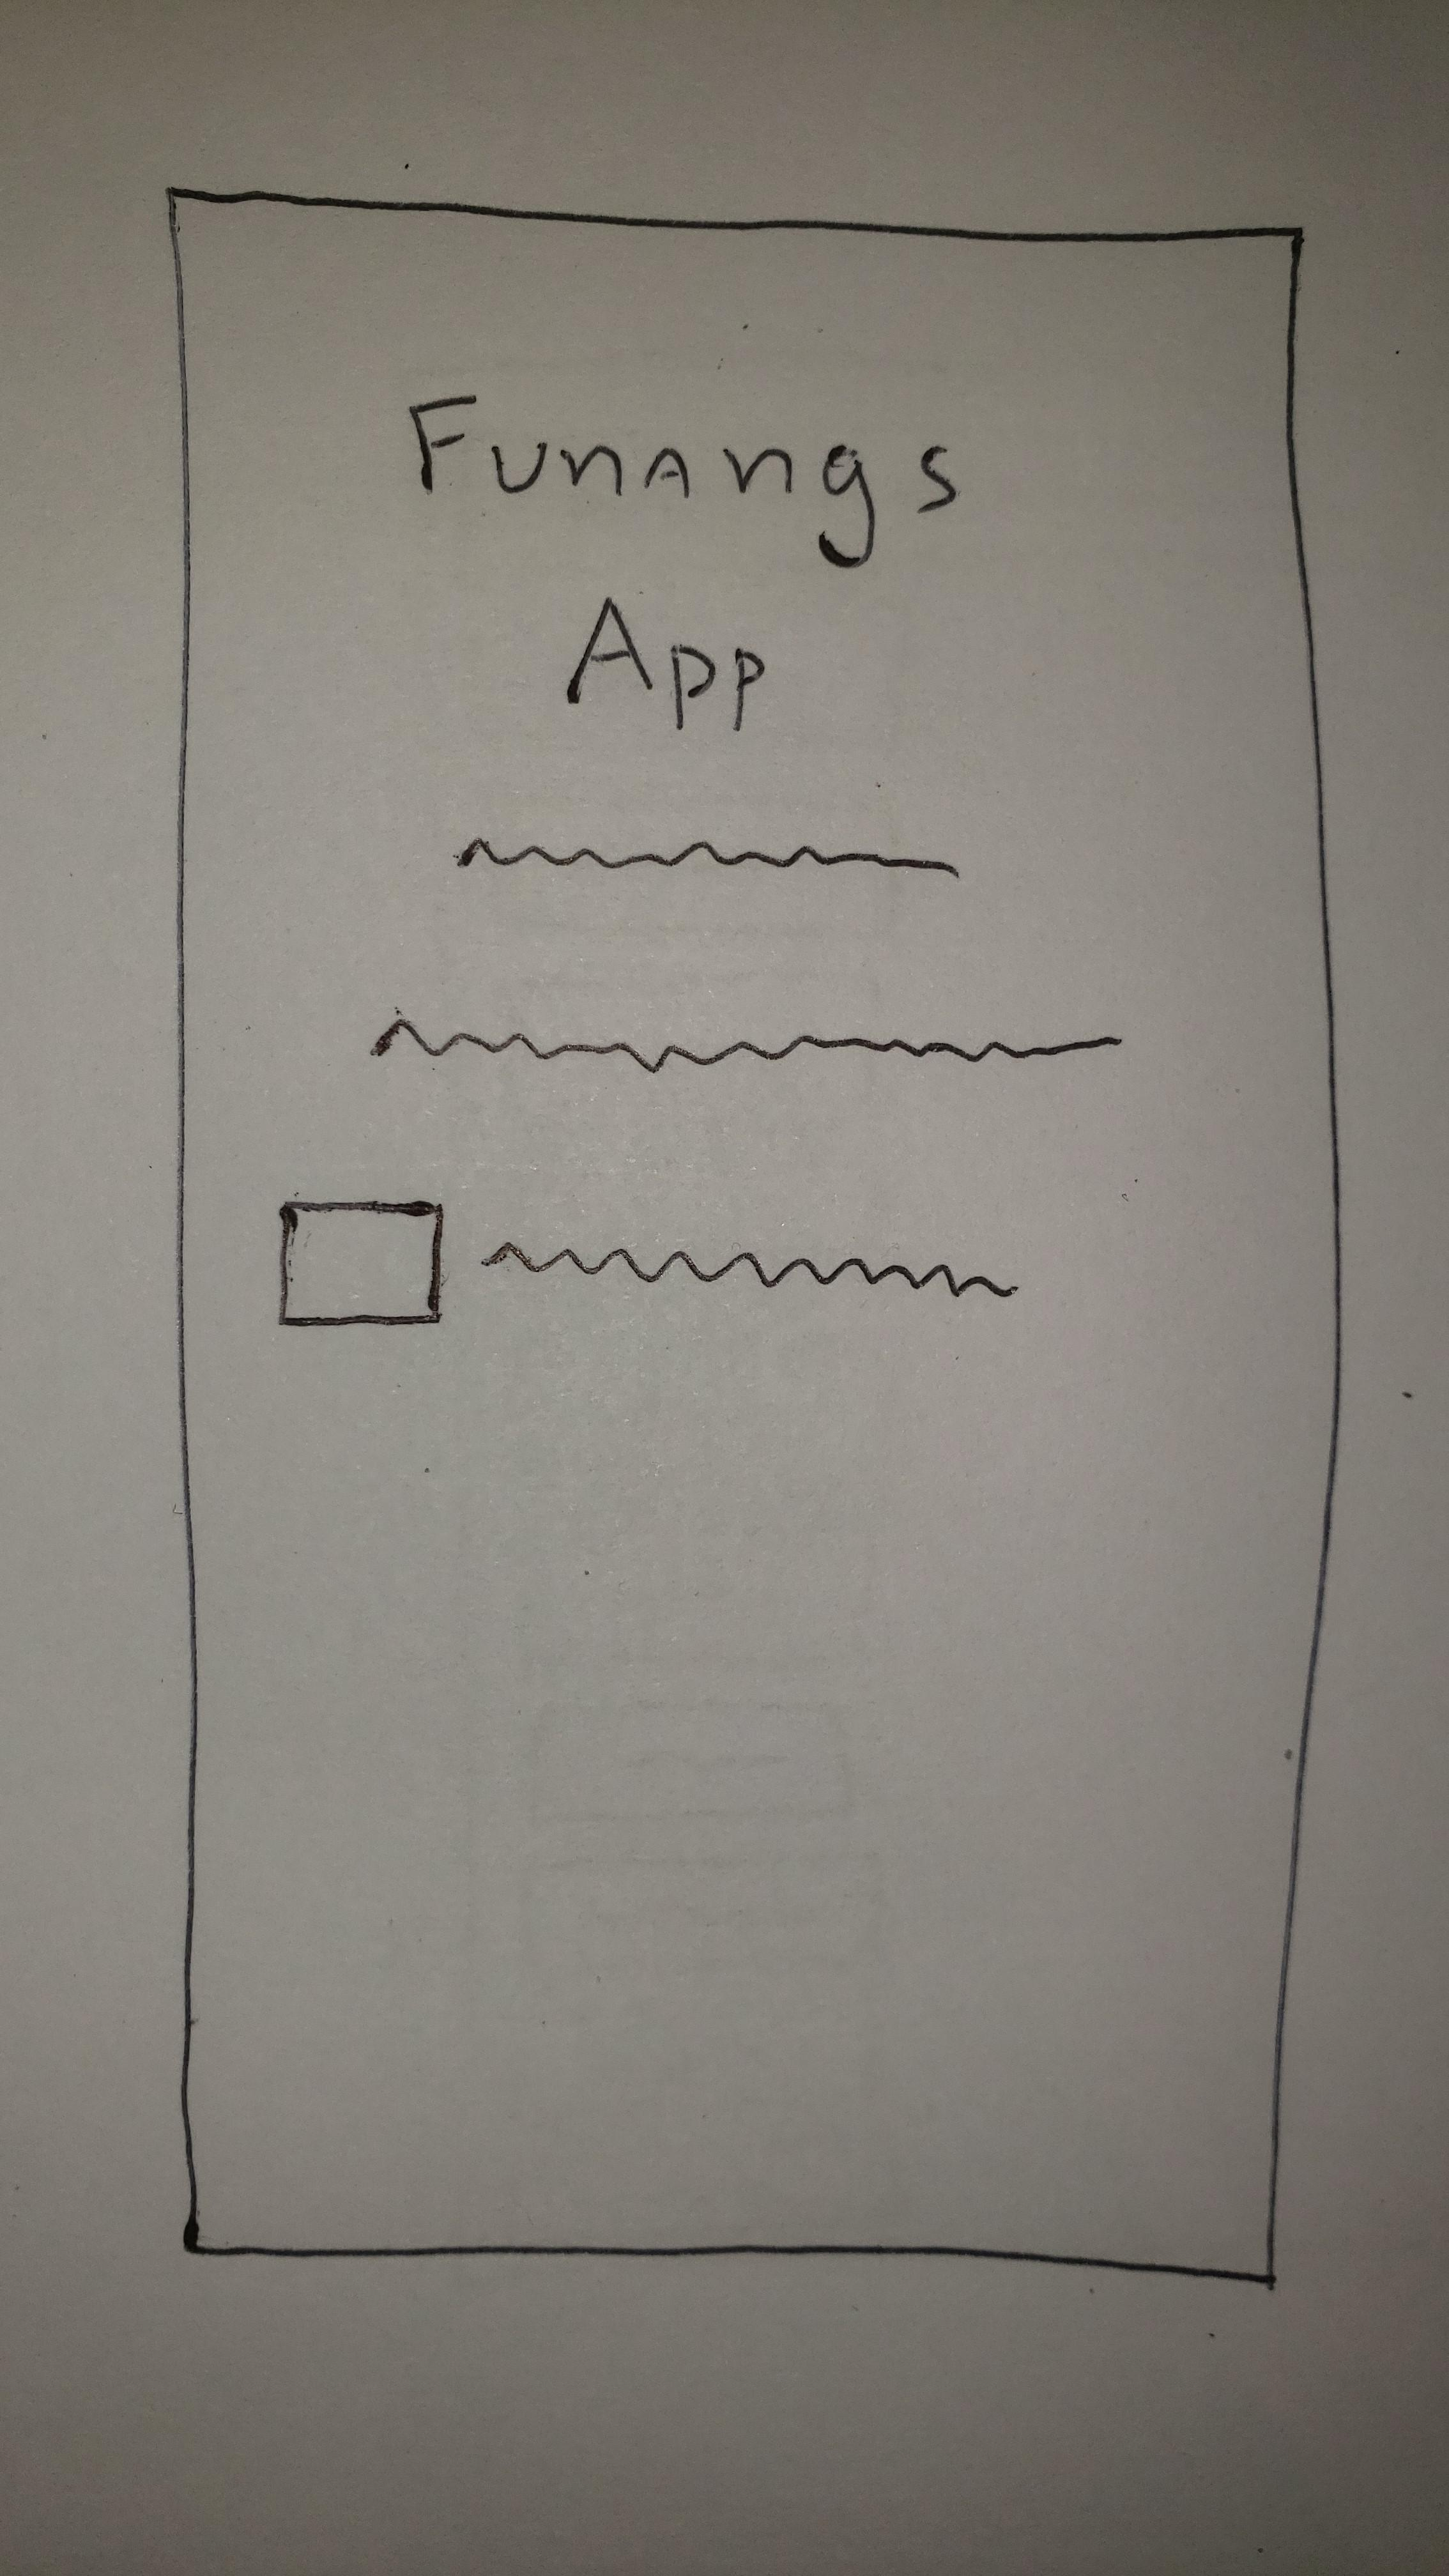CheckBox: (278, 1200, 1021, 1325)
Label: (410, 395, 961, 727), (370, 1019, 1123, 1072), (456, 839, 961, 879)
Screen: (163, 184, 1341, 2288)
